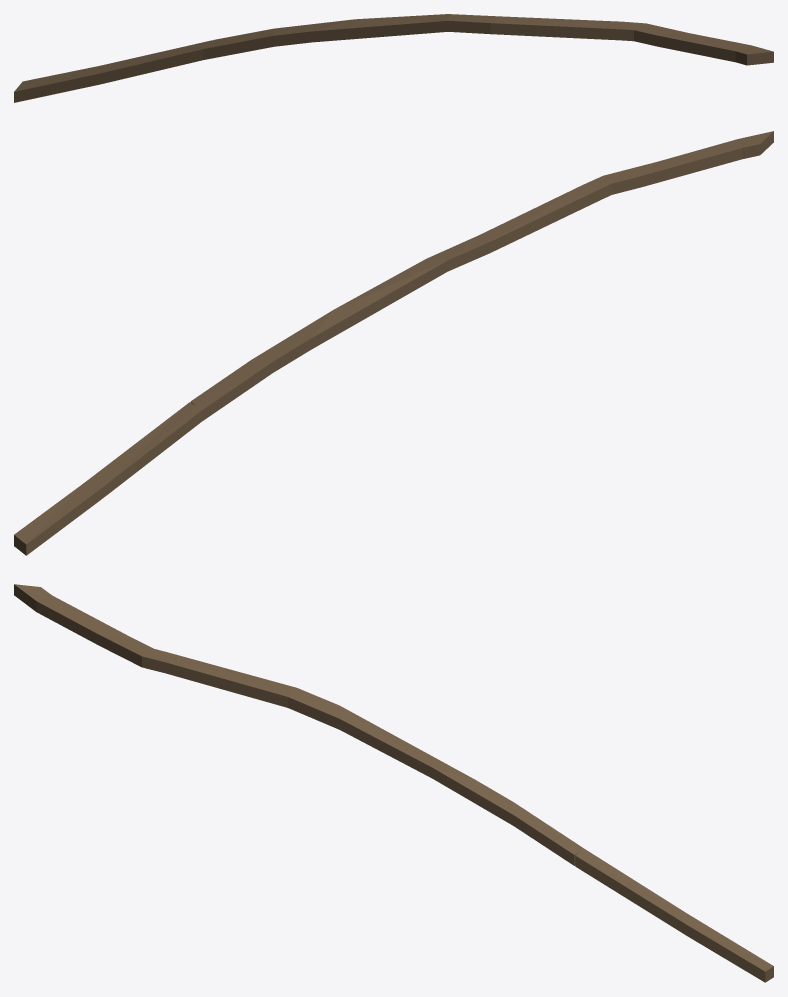
3 renders of one model, top to bottom at view 1: azimuth 90°, elevation 25°; view 2: azimuth 150°, elevation 25°; view 3: azimuth 270°, elevation 25°, orthographic. The views are drawn at different scales.
Size of the model in its own units: 24.33 by 14.09 by 43.69.
